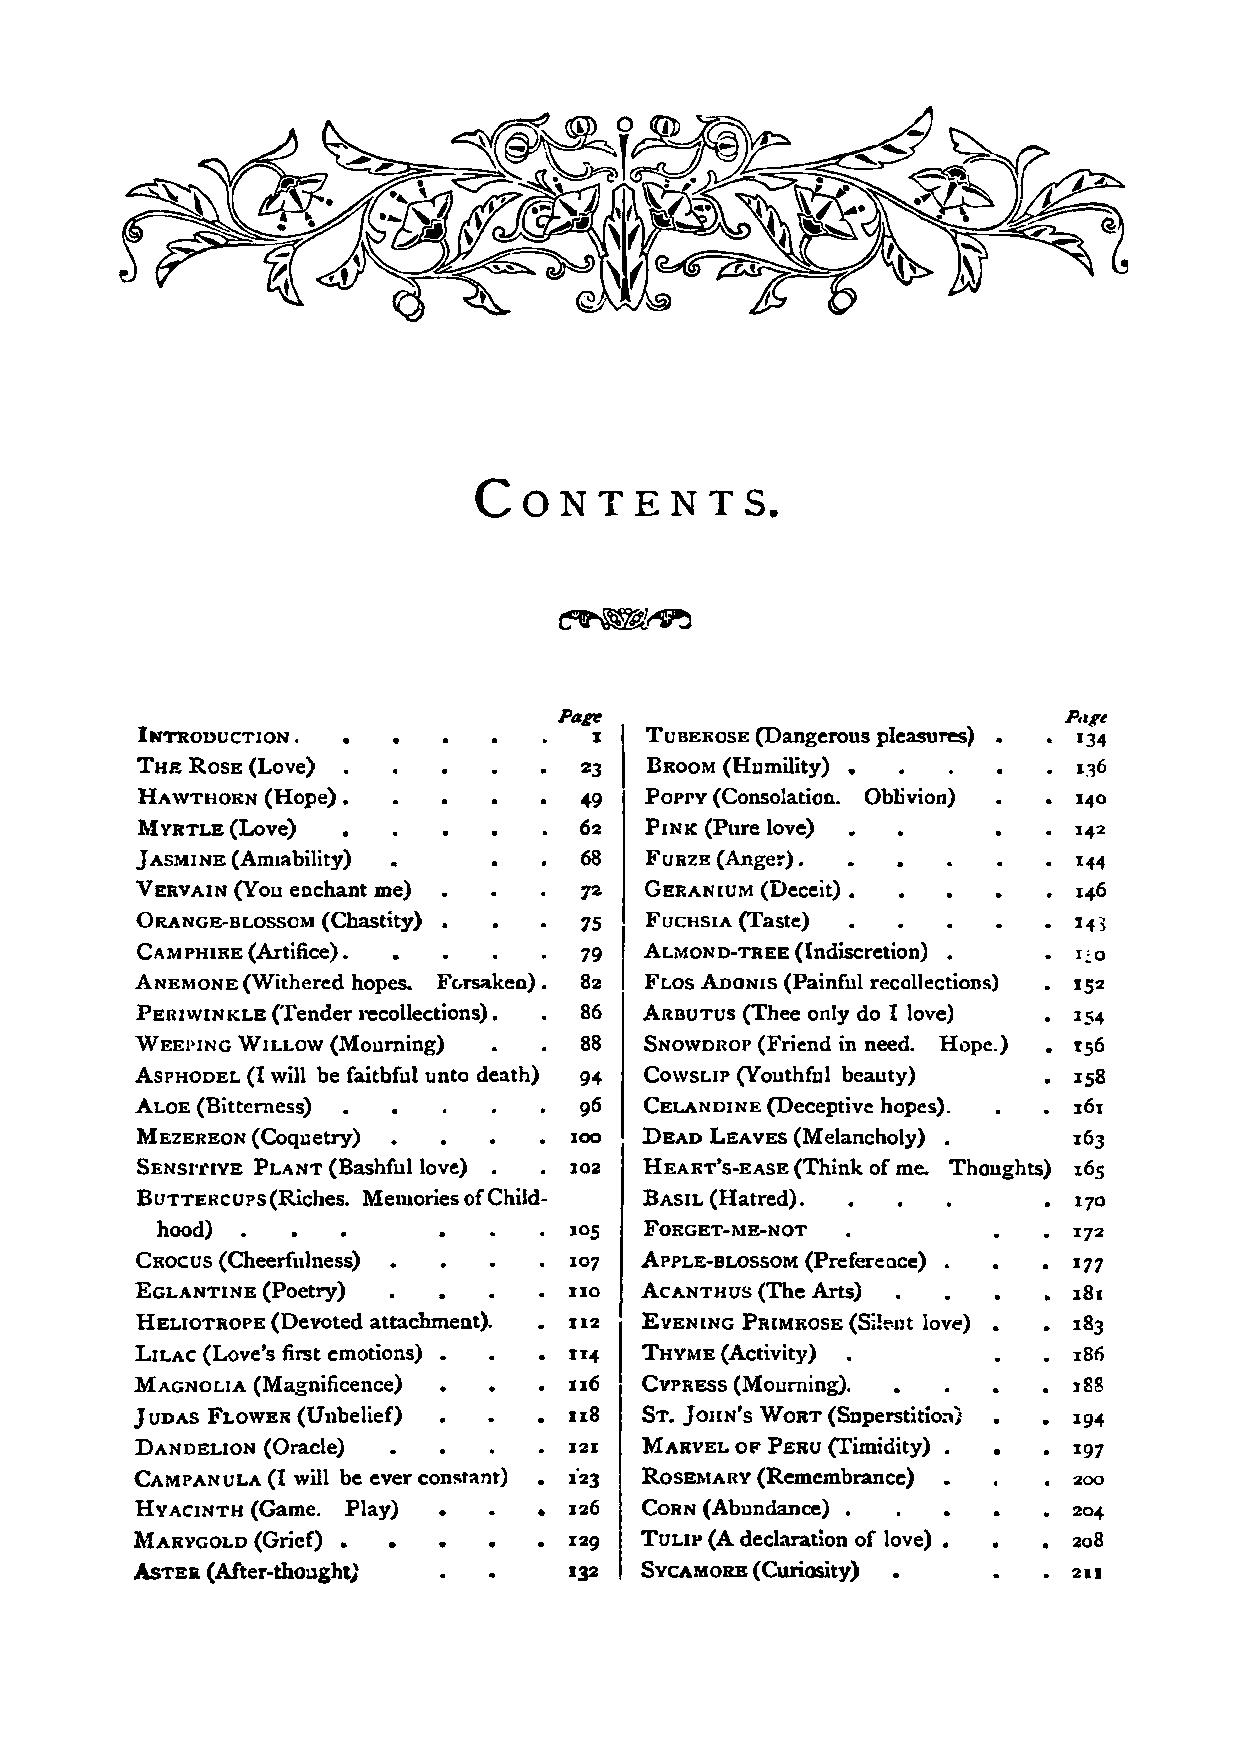TOC_chapter: (133, 1185, 548, 1240), (637, 1154, 1048, 1180), (136, 970, 539, 993), (132, 1465, 509, 1490), (643, 721, 984, 746), (640, 1401, 968, 1427), (136, 1310, 497, 1333), (643, 969, 998, 992), (640, 785, 957, 811), (641, 1308, 973, 1333), (641, 1033, 1009, 1055), (133, 1002, 490, 1024), (133, 1064, 541, 1083), (133, 1155, 468, 1178), (641, 1000, 955, 1024), (640, 937, 927, 962), (641, 1527, 935, 1551), (132, 1342, 424, 1366), (643, 1092, 947, 1115), (132, 1402, 403, 1428), (136, 909, 421, 933), (134, 1033, 448, 1055), (641, 1464, 921, 1488), (641, 1062, 919, 1086), (643, 1435, 934, 1457), (641, 1125, 926, 1147), (641, 1247, 926, 1270), (136, 878, 413, 900), (136, 1496, 399, 1519), (132, 1373, 405, 1394), (132, 1248, 364, 1272), (133, 845, 352, 871), (136, 1125, 362, 1149), (133, 1558, 360, 1582), (132, 1278, 348, 1302), (644, 752, 829, 780), (136, 784, 338, 809), (132, 939, 340, 964), (640, 1559, 860, 1582), (136, 1437, 348, 1460), (641, 1372, 849, 1394), (645, 815, 821, 841), (641, 1496, 835, 1520), (130, 1529, 327, 1551), (133, 1092, 314, 1117), (136, 753, 315, 777), (641, 878, 841, 899), (133, 815, 301, 840), (136, 721, 301, 746), (641, 1280, 862, 1299), (641, 1215, 811, 1239), (641, 1341, 819, 1363), (641, 909, 813, 931), (640, 1185, 797, 1209), (644, 845, 798, 870)
TOC_pagenumber: (1074, 1125, 1106, 1151), (1072, 851, 1108, 874), (568, 1559, 601, 1584), (1074, 880, 1108, 903), (1070, 1311, 1104, 1334), (1074, 1032, 1104, 1057), (1070, 1190, 1108, 1210), (1074, 1155, 1106, 1180), (1071, 1527, 1104, 1550), (1071, 758, 1108, 778), (1071, 1500, 1108, 1520), (576, 1092, 605, 1118), (1074, 1091, 1103, 1117), (1074, 1221, 1106, 1244), (565, 1402, 601, 1423), (1070, 1374, 1106, 1394), (565, 1251, 599, 1272), (568, 1469, 601, 1491), (1071, 1280, 1104, 1302), (1071, 1341, 1104, 1362), (1068, 1561, 1102, 1582), (1072, 1249, 1102, 1274), (1075, 786, 1106, 809), (566, 1372, 601, 1392), (1074, 1066, 1106, 1087), (568, 1531, 599, 1553), (1074, 1406, 1104, 1428), (565, 1283, 603, 1300), (1074, 974, 1108, 993), (1074, 727, 1106, 747), (1074, 821, 1106, 841), (1072, 913, 1104, 933), (1072, 1440, 1104, 1460), (1076, 946, 1106, 968), (566, 1129, 605, 1145), (566, 1312, 601, 1330), (1070, 1009, 1104, 1027), (568, 1496, 599, 1515), (578, 813, 605, 835), (568, 1345, 600, 1362), (569, 1157, 599, 1176), (578, 880, 604, 902), (568, 1439, 599, 1456), (578, 757, 607, 776), (580, 1000, 603, 1023), (578, 943, 603, 965), (570, 1221, 600, 1239), (578, 786, 604, 807), (577, 1067, 603, 1086), (1072, 1472, 1104, 1487), (580, 848, 603, 868), (578, 913, 603, 930), (578, 972, 603, 989), (585, 726, 607, 743), (580, 1033, 603, 1049)
chapter: (468, 472, 782, 523)
